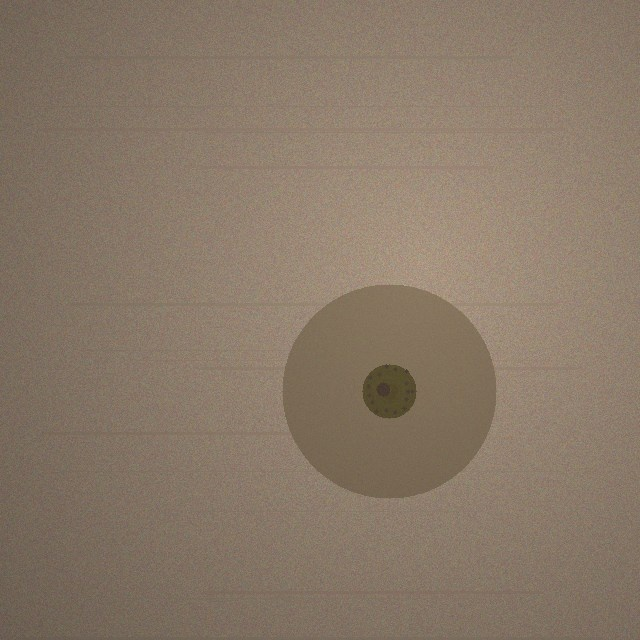cold_weld: (282, 284, 496, 498)
